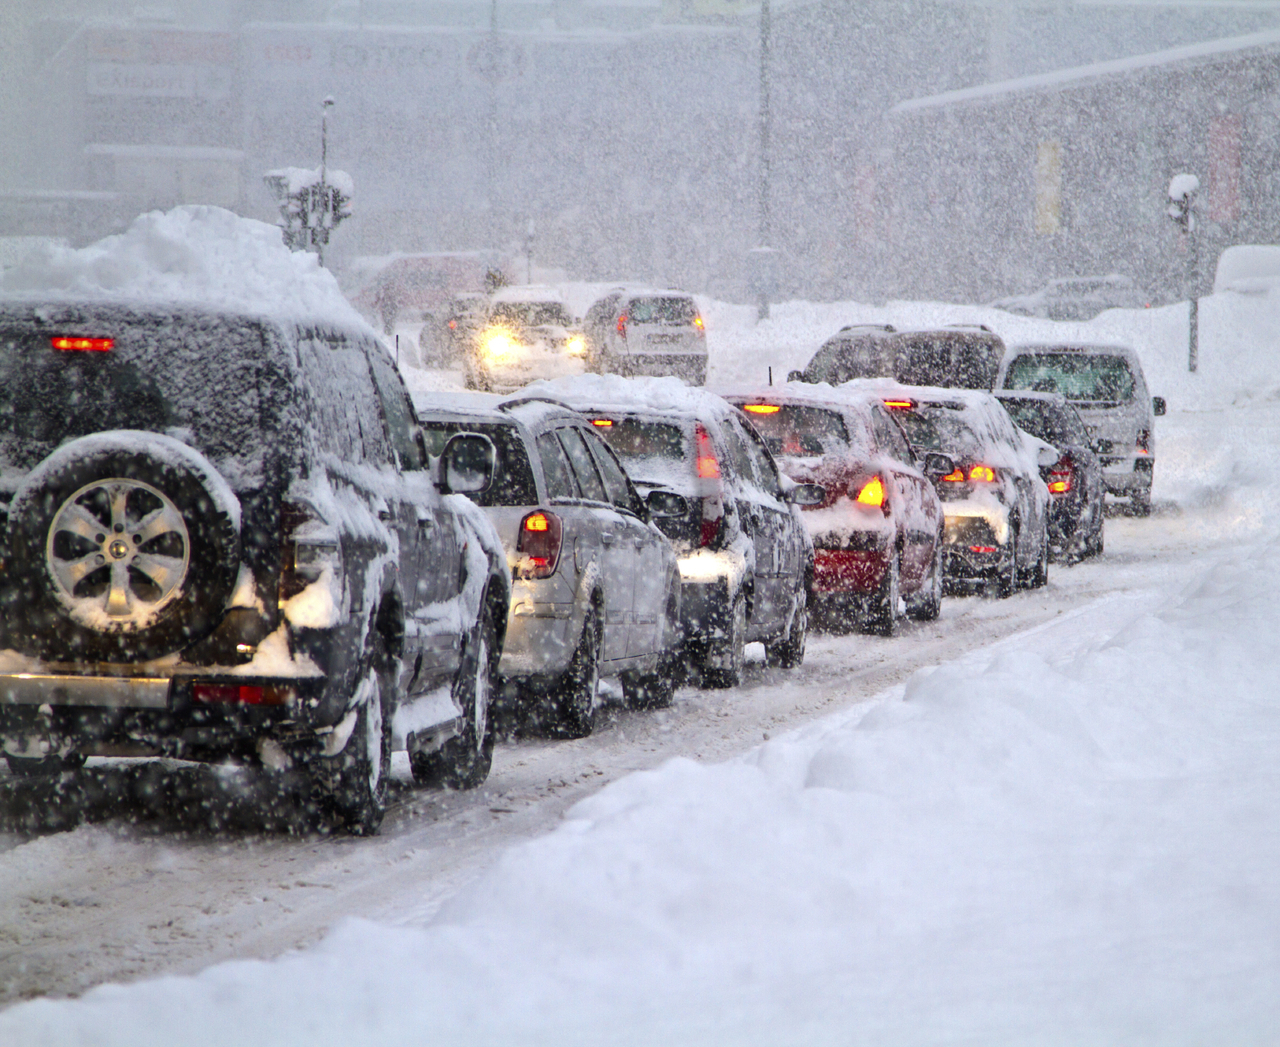car: (6, 307, 505, 808), (423, 379, 684, 733), (563, 384, 811, 692), (746, 393, 950, 627), (863, 379, 1052, 601), (999, 343, 1162, 522), (798, 307, 1003, 407), (1018, 387, 1102, 559), (584, 285, 714, 384), (460, 291, 586, 389), (999, 277, 1151, 325), (421, 291, 484, 356)
